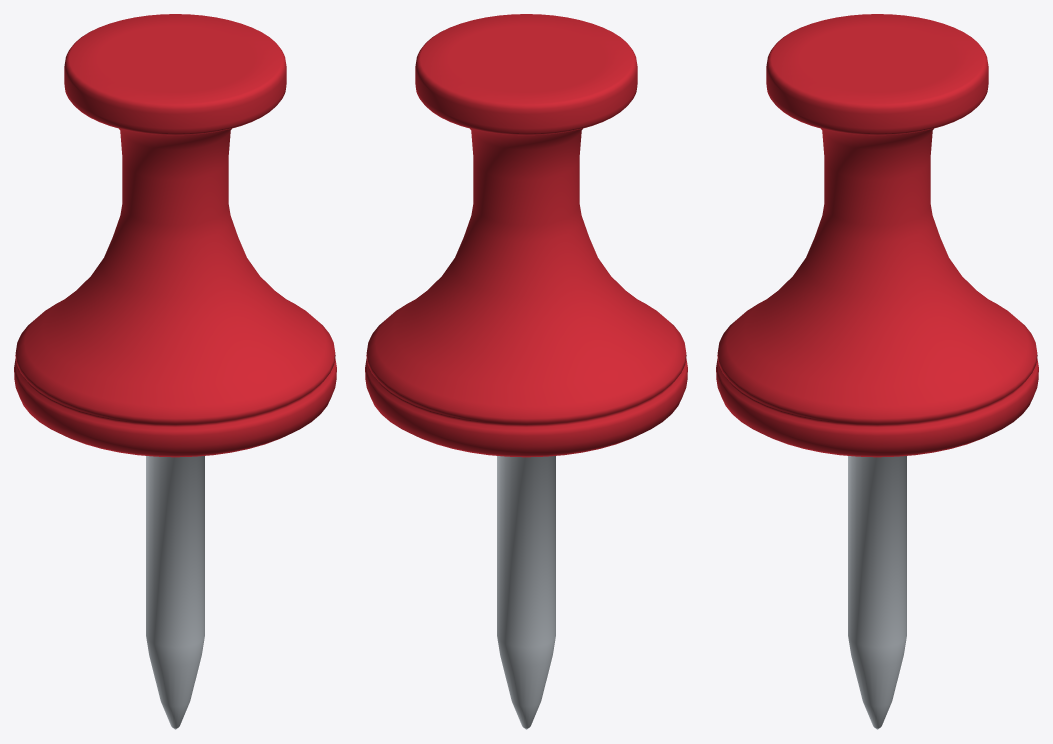
File: thumbtack_red.glb
3 views of the same model, side by side, from view 1: azimuth 30°, elevation 25°; view 2: azimuth 150°, elevation 25°; view 3: azimuth 270°, elevation 25° (orthographic).
Visible parts, largest first — view 1: Plastic_Head, Steel_Pin; view 2: Plastic_Head, Steel_Pin; view 3: Plastic_Head, Steel_Pin.
Part boxes in pixels (x1=…): Plastic_Head: x1=14, y1=14, x2=336, y2=457; Steel_Pin: x1=146, y1=456, x2=204, y2=729; Plastic_Head: x1=365, y1=14, x2=687, y2=457; Steel_Pin: x1=497, y1=456, x2=555, y2=729; Plastic_Head: x1=716, y1=14, x2=1038, y2=457; Steel_Pin: x1=848, y1=456, x2=906, y2=729.
Bounding box in the file's own units: 0.009 × 0.0206 × 0.009.
